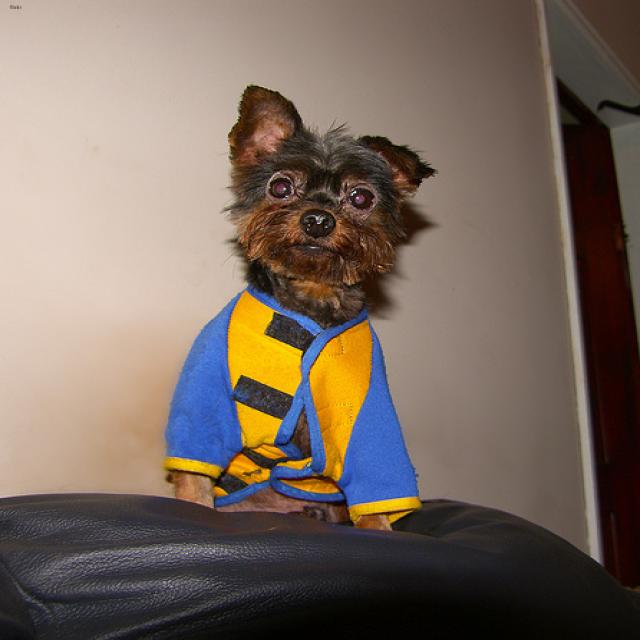dog-yorkshire_terrier: (215, 77, 459, 339)
